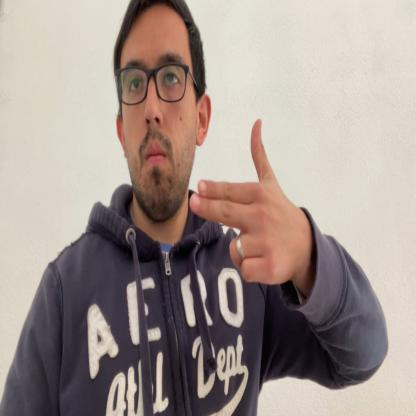H: (190, 119, 309, 285)
